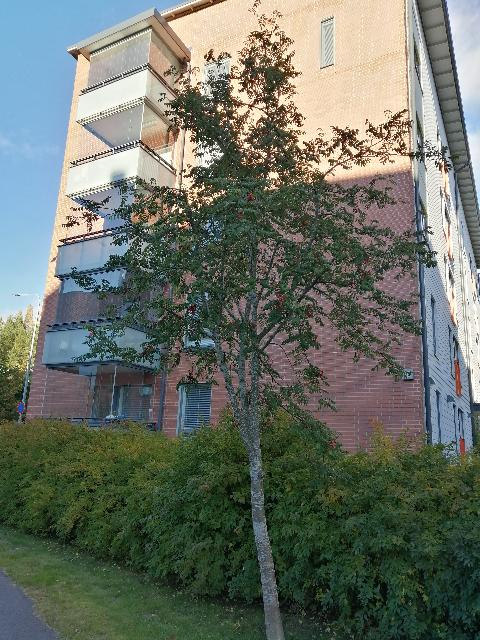rowan: (57, 0, 464, 640)
